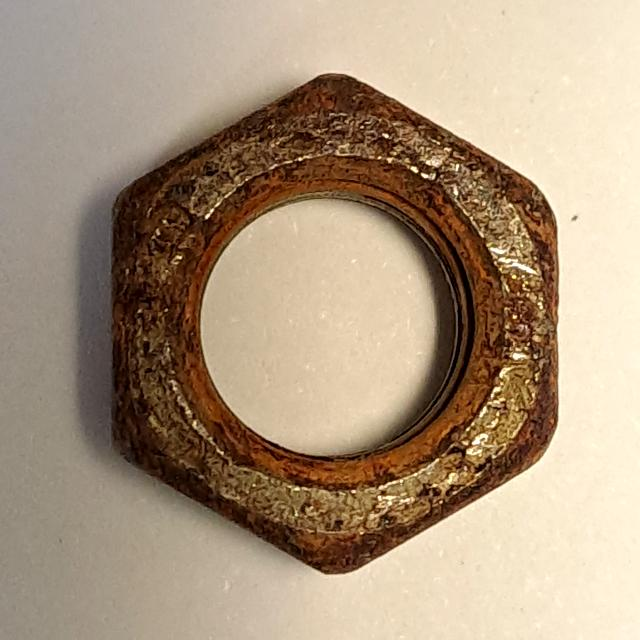Rust: (98, 55, 570, 592)
